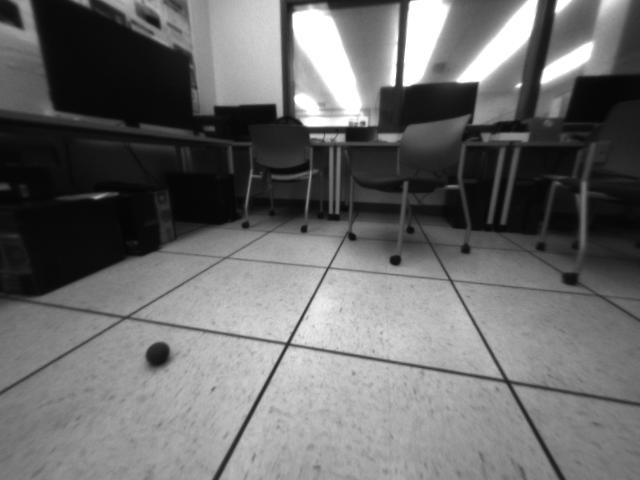dogtoy: (143, 334, 181, 370)
